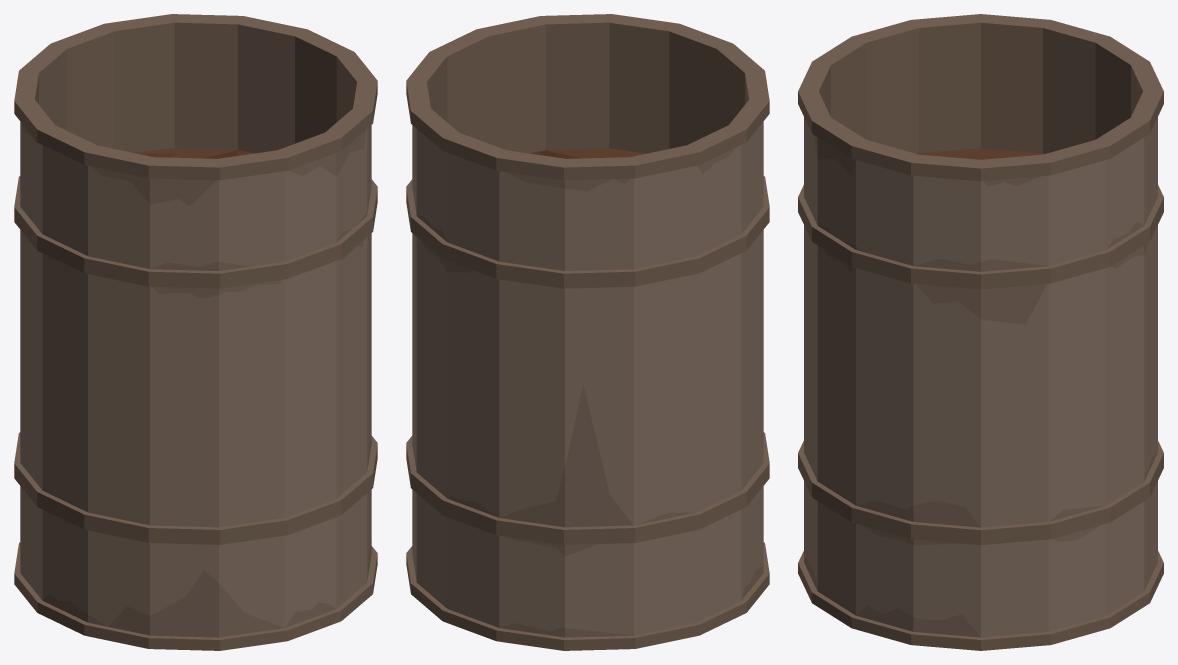
Rendered from Barrel_01.fbx.
The picture shows the model from 3 angles, left to right: view 1: azimuth 30°, elevation 25°; view 2: azimuth 150°, elevation 25°; view 3: azimuth 270°, elevation 25°; orthographic projection.
Parts seen in each view (by area): view 1: Barrel_01; view 2: Barrel_01; view 3: Barrel_01.
Boxes of the visible parts, x1,y1,x2,y2 form: Barrel_01: (14, 14, 377, 650); Barrel_01: (406, 14, 769, 650); Barrel_01: (798, 14, 1163, 650).
Bounding box in the file's own units: 60.96 × 88.66 × 60.96.
